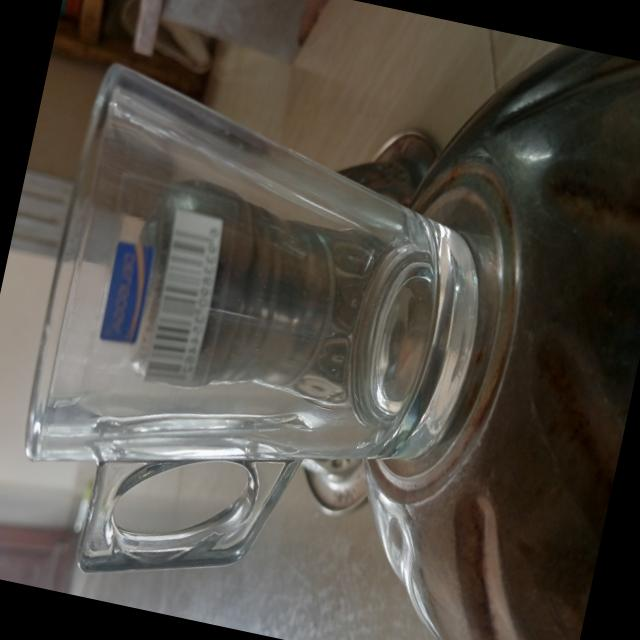glass-VX4N: (0, 51, 515, 639)
